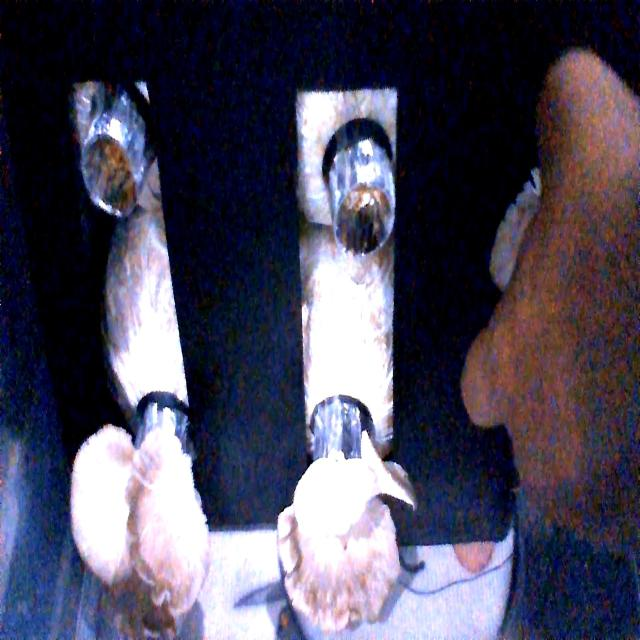big: (64, 431, 214, 609), (282, 454, 409, 630)
nfound: (78, 131, 148, 221), (328, 194, 395, 255)
